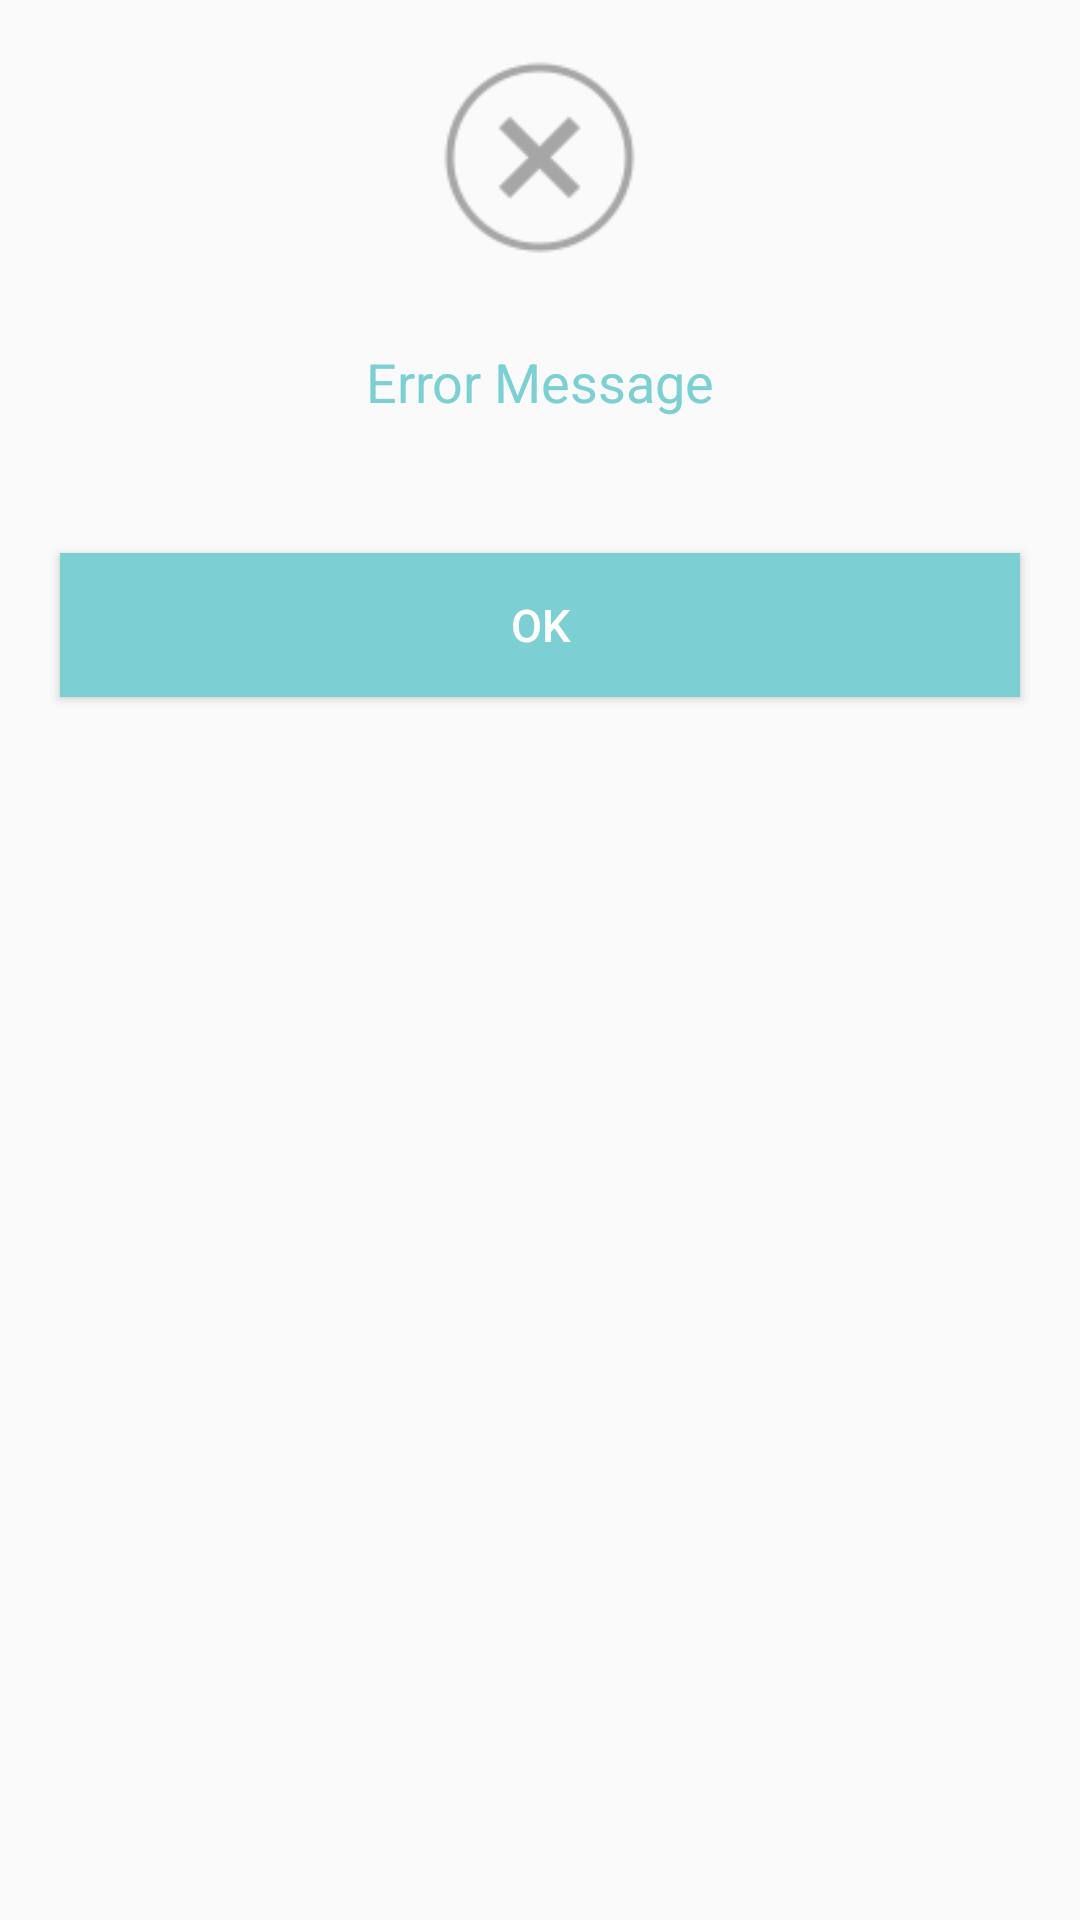

Screen size 1080px x 1920px. Icon name, then its box in pixels as (x1, y1, x2, y2):
cancel: (445, 63, 634, 252)
